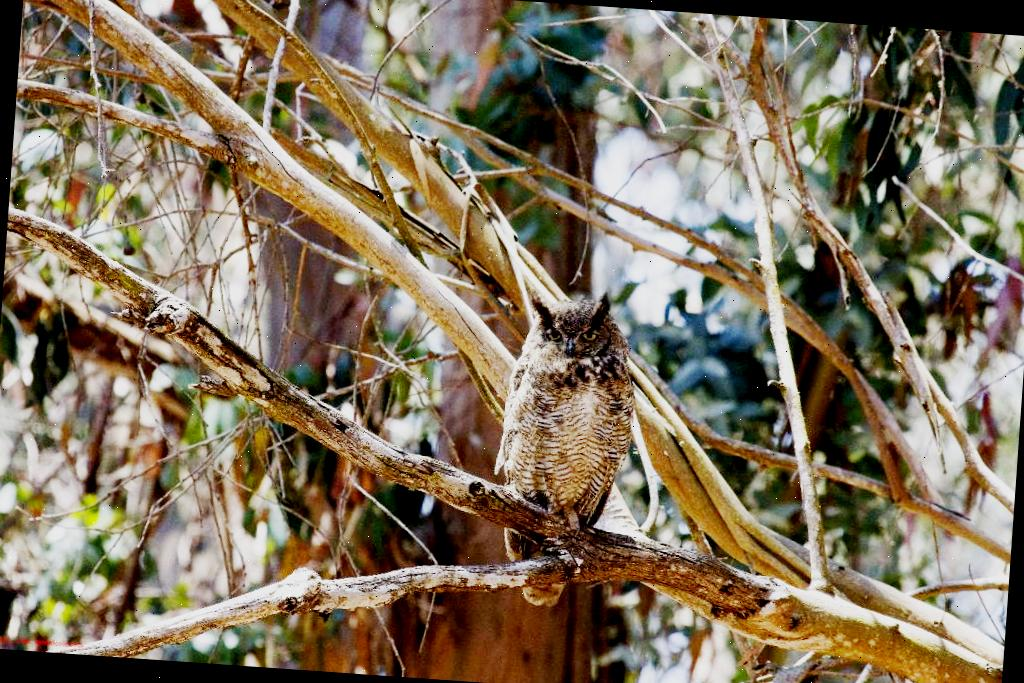Owl: (475, 276, 644, 618)
